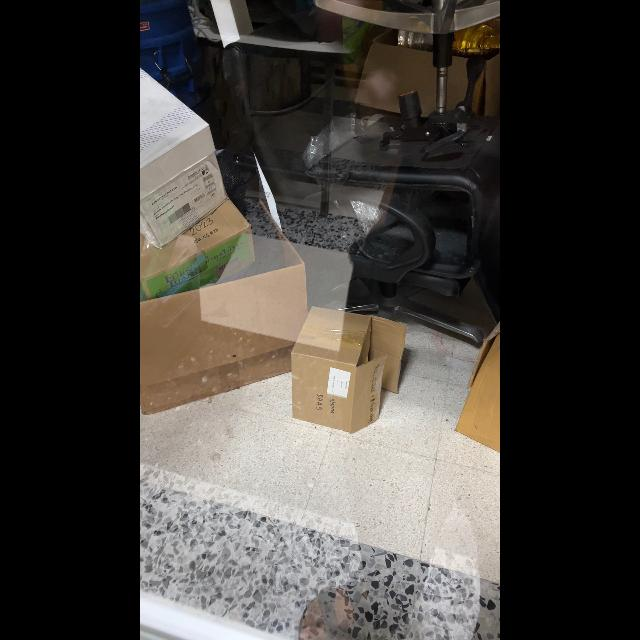cardboard_box: (140, 205, 306, 421), (140, 63, 246, 303), (274, 296, 416, 439)
